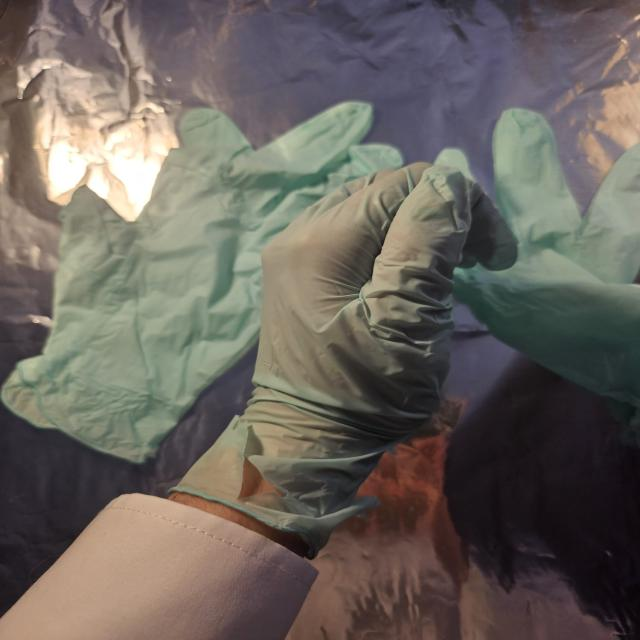gloves_damaged: (164, 158, 522, 560)
